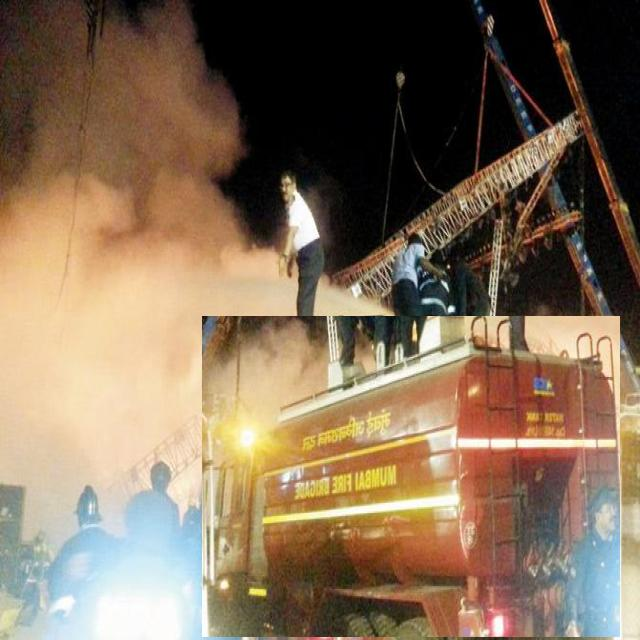emergency: (202, 316, 620, 637)
